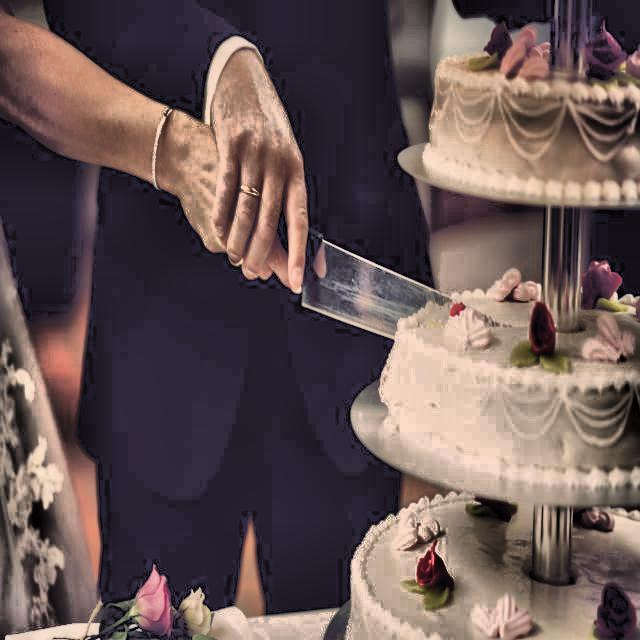knife: (272, 215, 457, 347)
